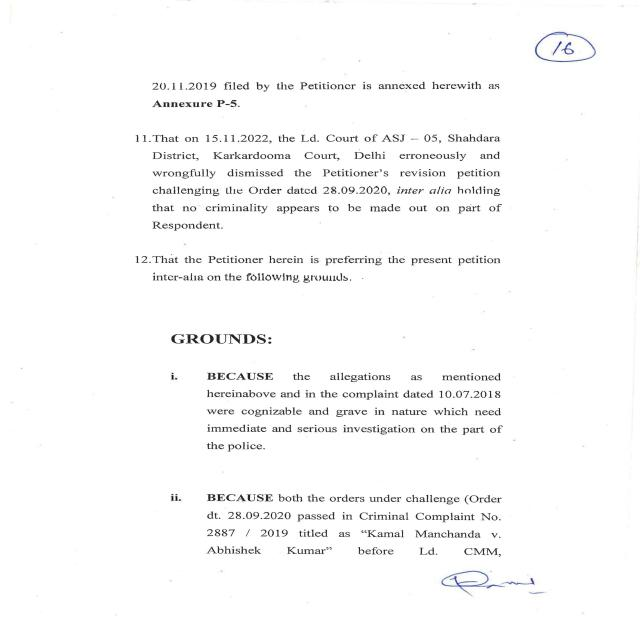page-number: (507, 0, 640, 136)
